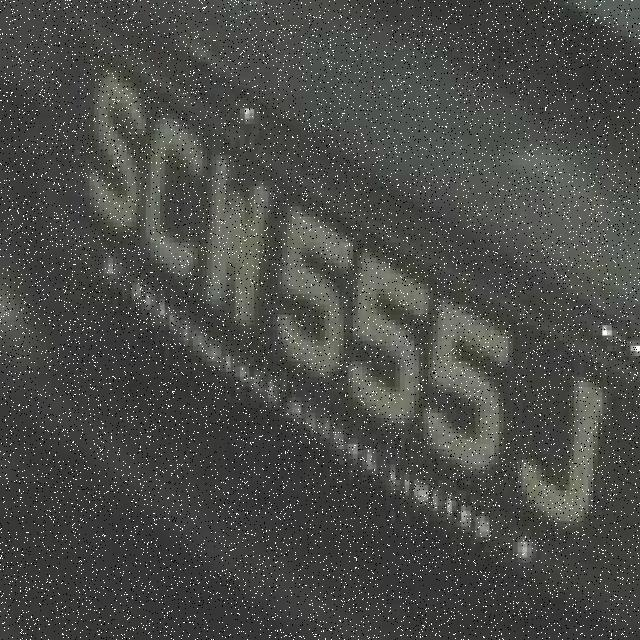licenseplate: (43, 14, 622, 592)
